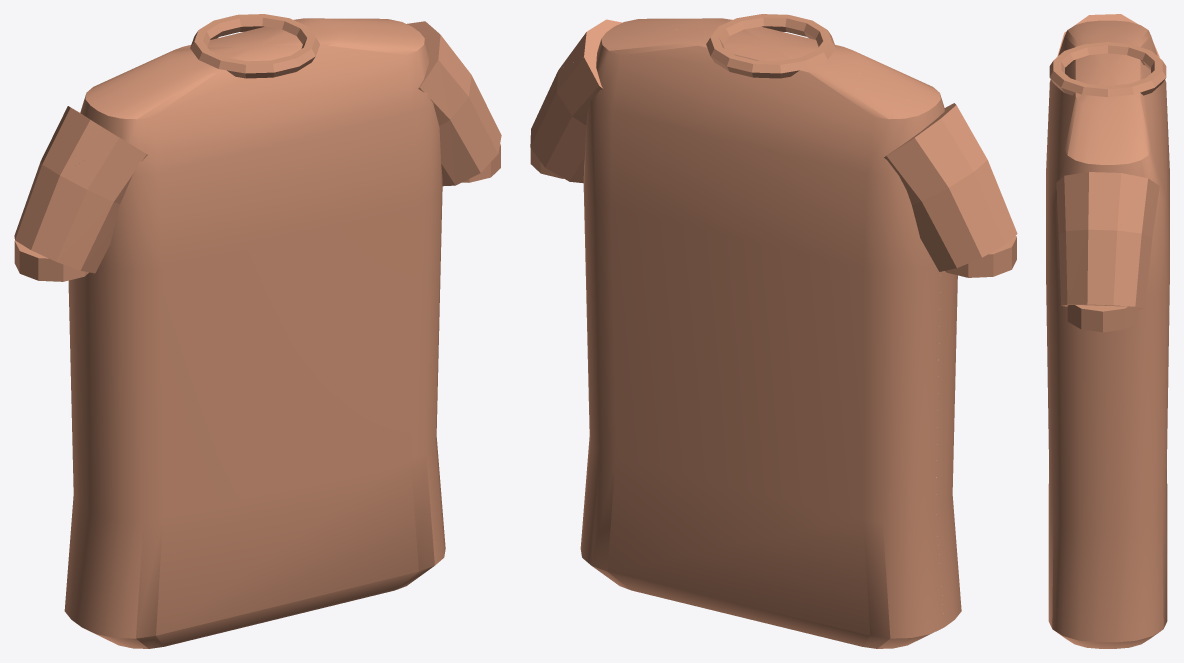
The model's file is tshirt-cc0-hanging.glb.
The picture shows the model from 3 angles, left to right: view 1: azimuth 30°, elevation 25°; view 2: azimuth 150°, elevation 25°; view 3: azimuth 270°, elevation 25°; orthographic projection. The views are drawn at different scales.
Visible parts, largest first — view 1: shirt_front, shirt_right_sleeve, shirt_back, shirt_left_sleeve; view 2: shirt_back, shirt_front, shirt_right_sleeve, shirt_left_sleeve; view 3: shirt_front, shirt_back, shirt_left_sleeve.
Boxes of the visible parts, x1=… form: shirt_front: x1=60, y1=14, x2=480, y2=648; shirt_right_sleeve: x1=14, y1=108, x2=118, y2=281; shirt_back: x1=42, y1=18, x2=440, y2=618; shirt_left_sleeve: x1=441, y1=35, x2=501, y2=182; shirt_back: x1=545, y1=17, x2=955, y2=648; shirt_front: x1=607, y1=14, x2=961, y2=626; shirt_right_sleeve: x1=922, y1=105, x2=1017, y2=277; shirt_left_sleeve: x1=530, y1=57, x2=583, y2=178; shirt_front: x1=1046, y1=20, x2=1162, y2=648; shirt_back: x1=1057, y1=14, x2=1169, y2=648; shirt_left_sleeve: x1=1058, y1=172, x2=1152, y2=332.
Bounding box in the file's own units: 0.5712 × 0.6438 × 0.14.
